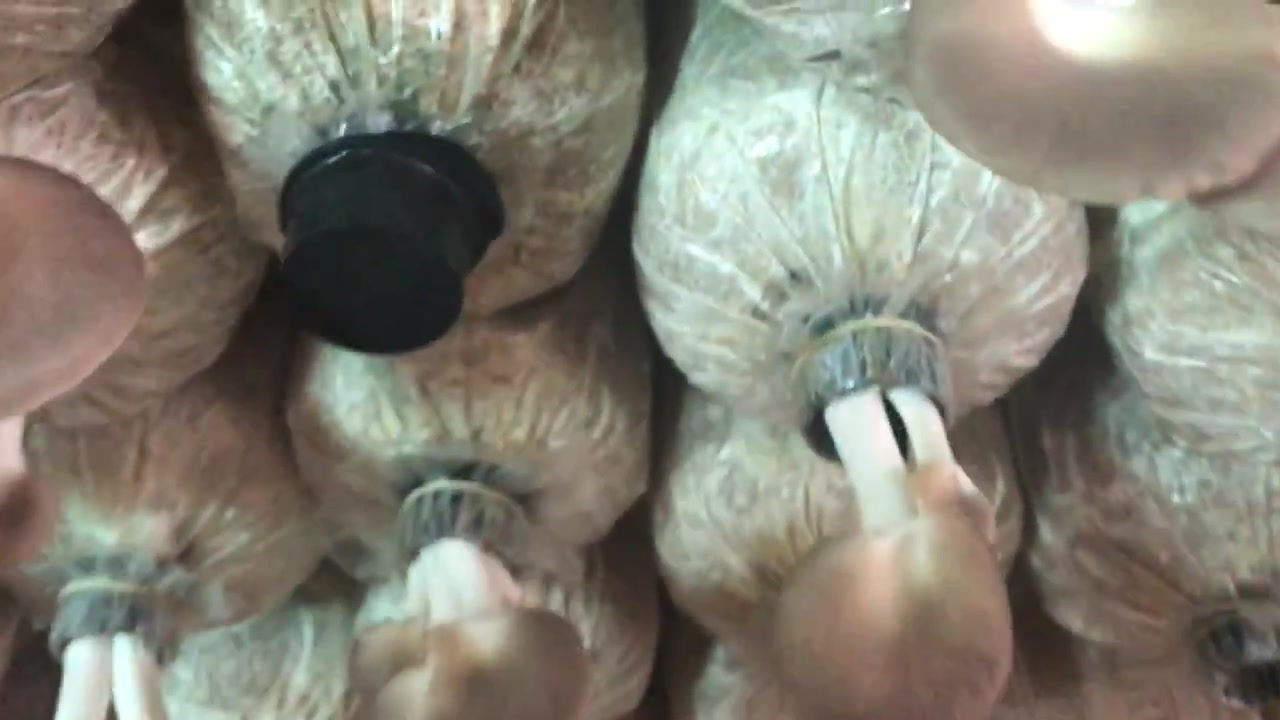nam: (766, 328, 1012, 720), (905, 1, 1280, 199), (353, 488, 584, 720), (1, 154, 144, 414), (52, 559, 174, 720)
